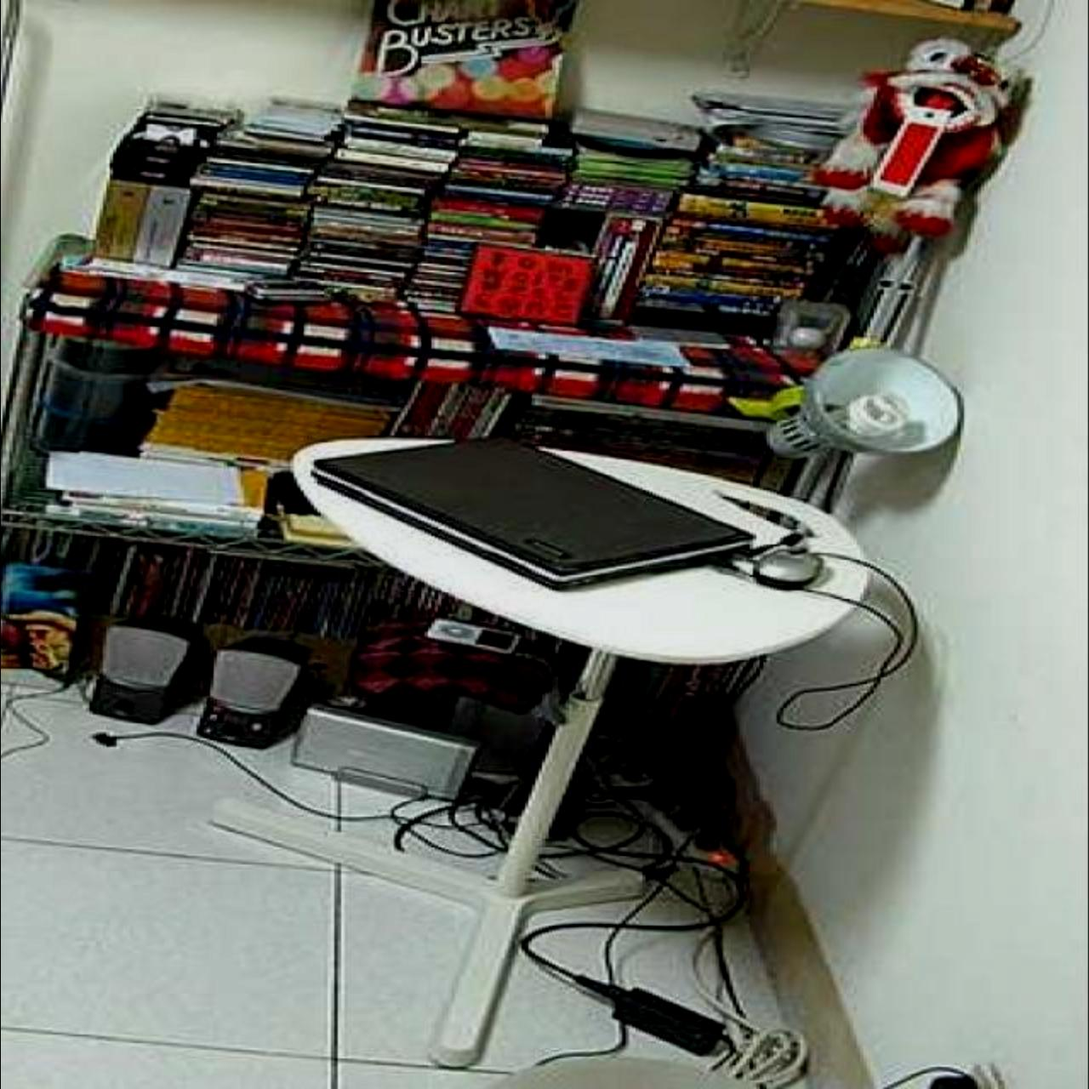laptop: (327, 412, 766, 602)
